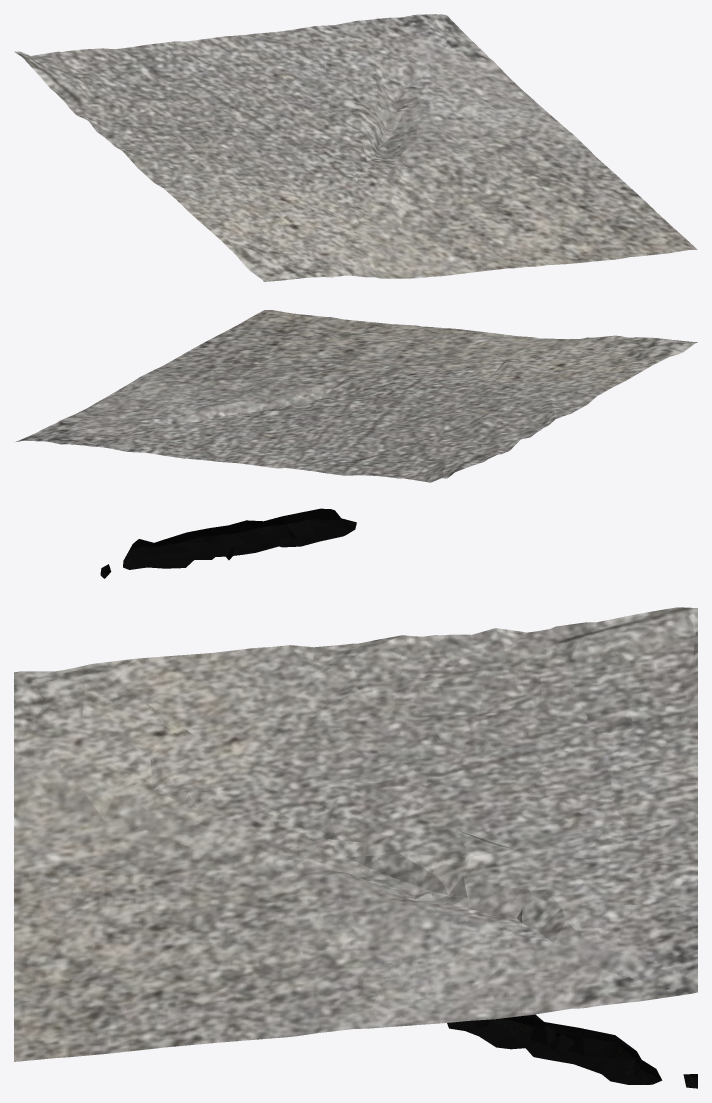
3 views of the same model, one above another, from view 1: azimuth 30°, elevation 25°; view 2: azimuth 150°, elevation 25°; view 3: azimuth 270°, elevation 25° (orthographic). The views are drawn at different scales.
Size of the model in its own units: 0.8374 by 0.3473 by 0.8374.
3 materials, 3 textured.
